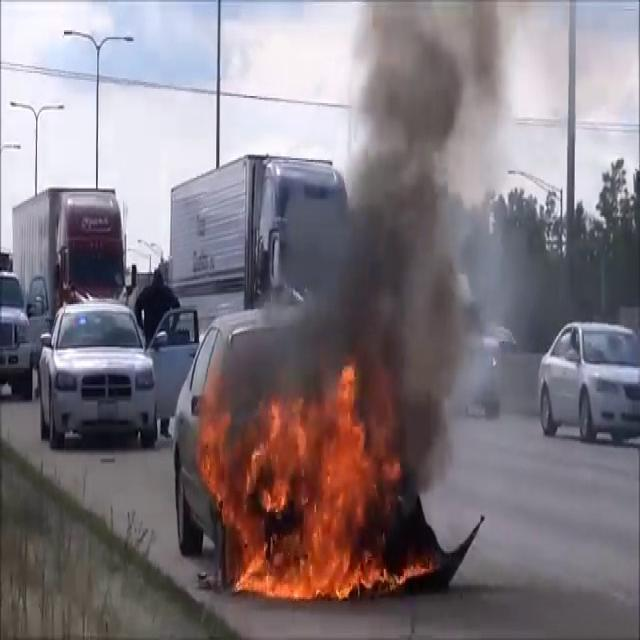Fire: (197, 372, 415, 612)
Smoke: (223, 1, 526, 458)
